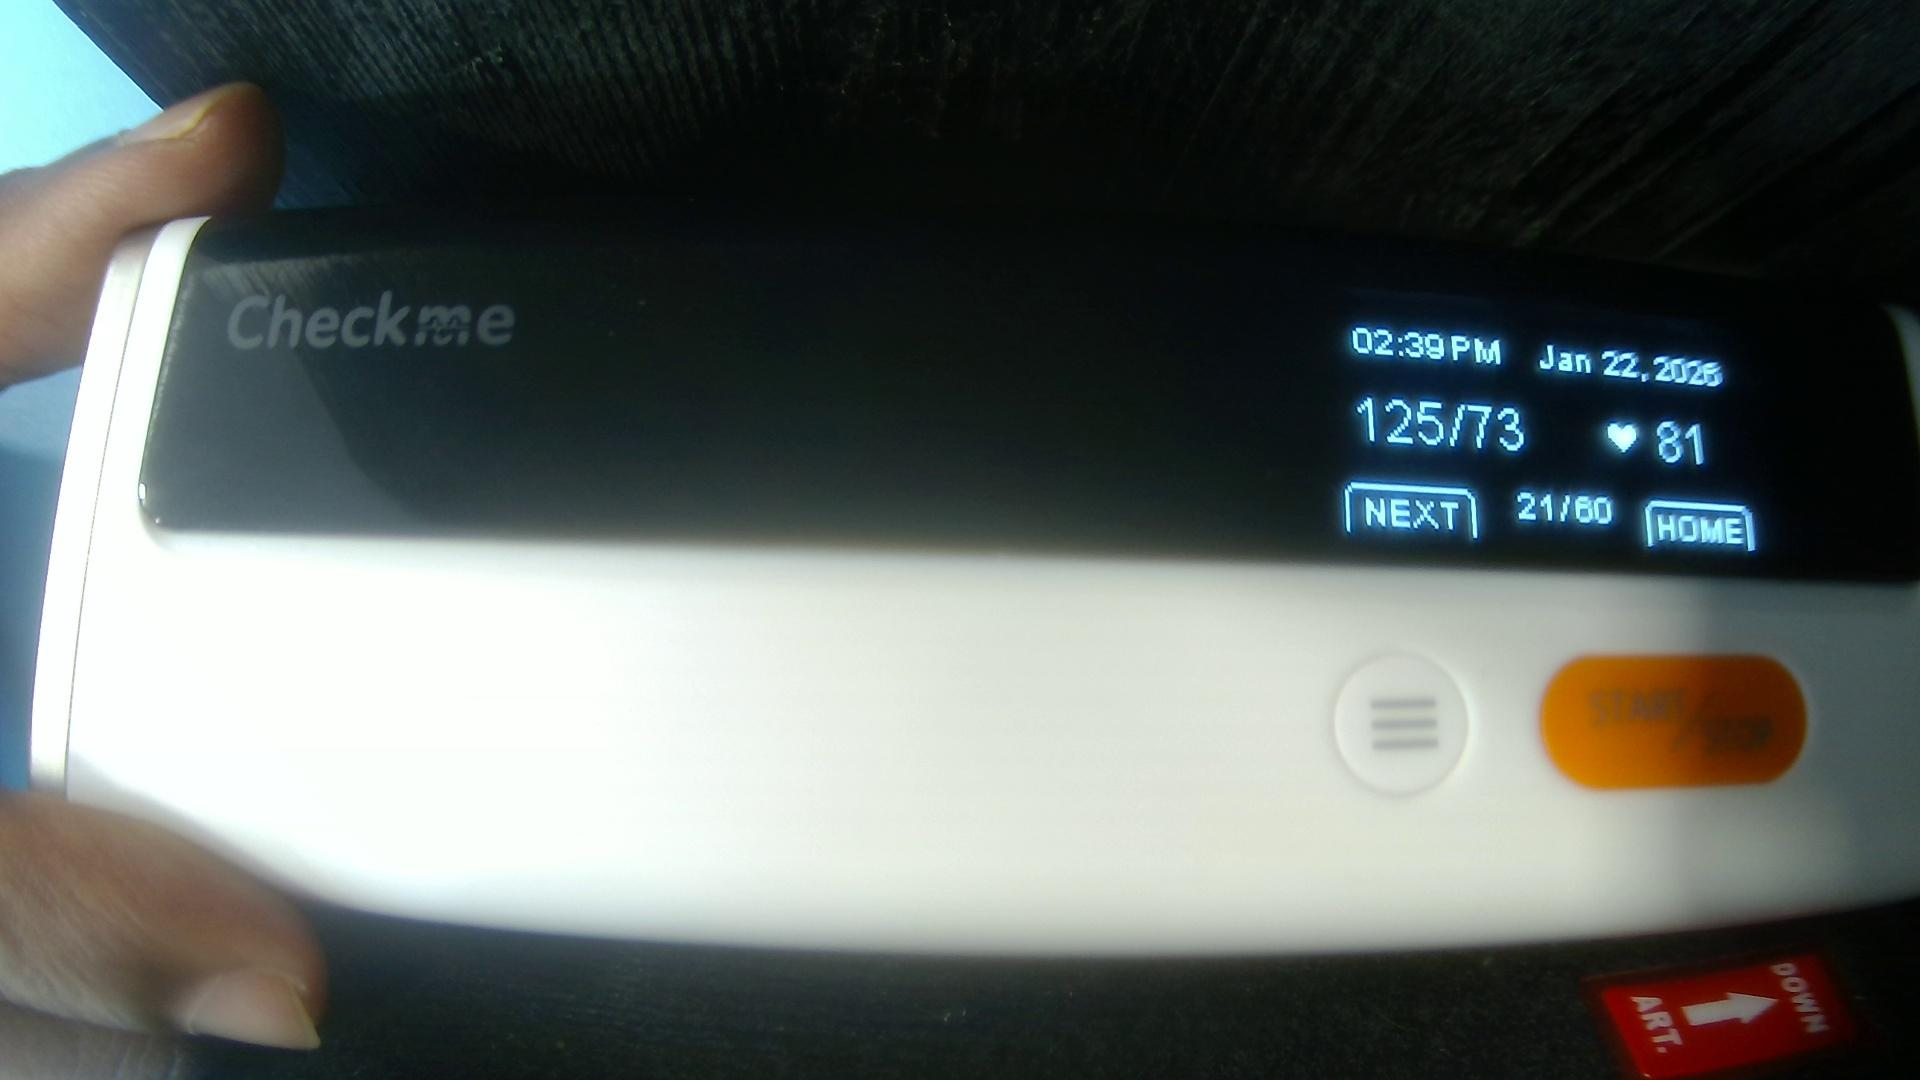DISPLAY: (164, 219, 1904, 579)
